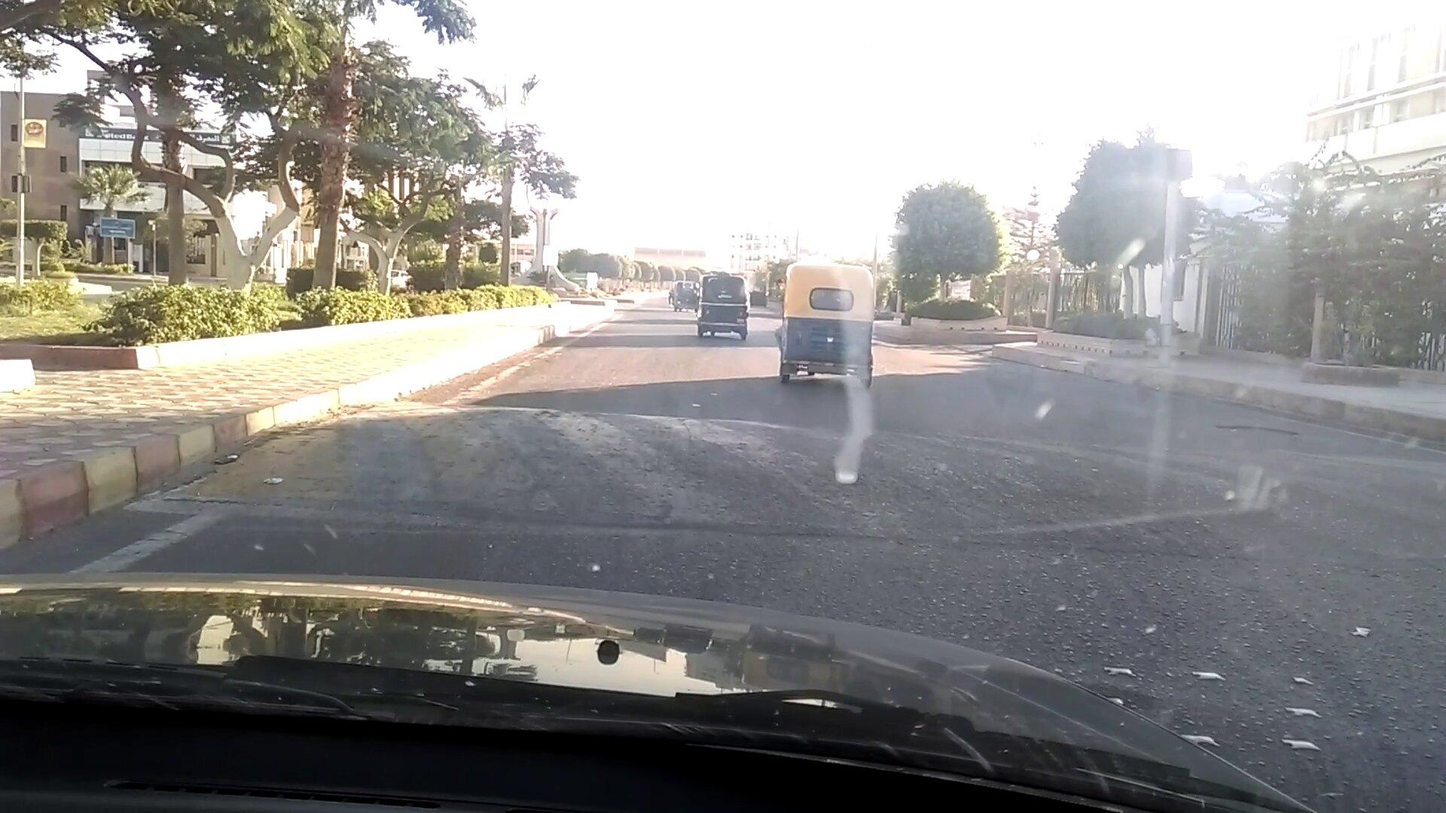Bump: (356, 405, 1446, 582)
